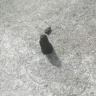Dog: (38, 27, 54, 54)
